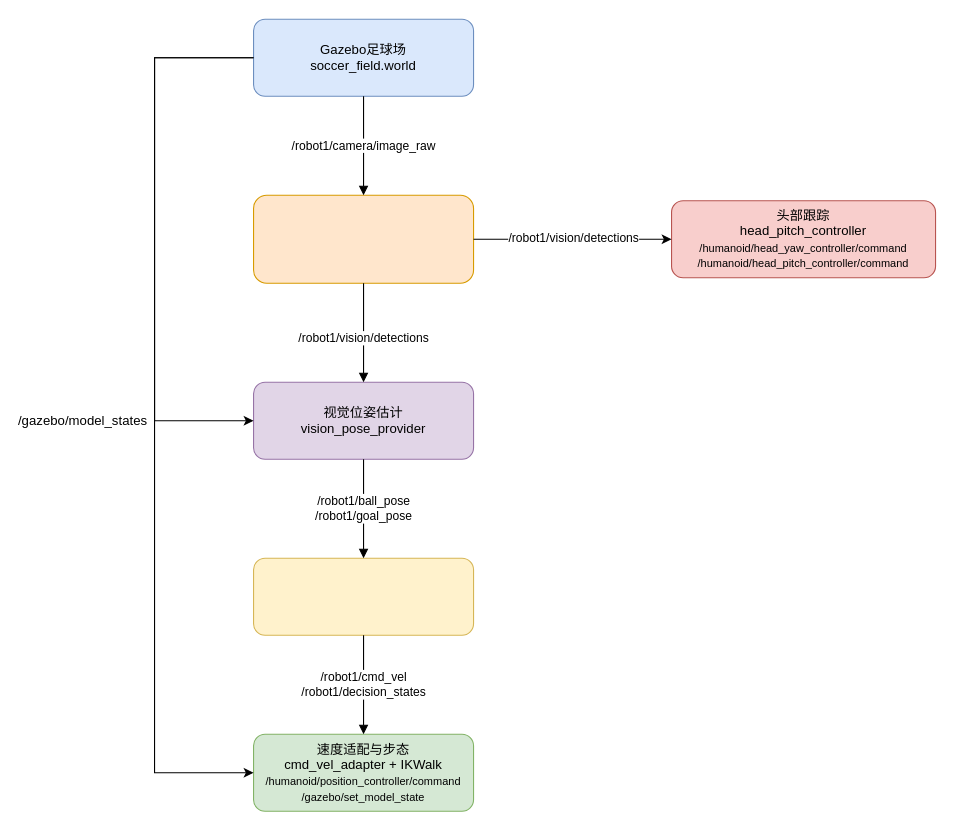
Image size: 955x831. Some labels were removed from this diagram. The centre of each missing label's shape, as x and y in pixels:
"FSM决策 soccer_demo_node" belongs at point (363, 596).
"视觉检测节点 Hough或YOLO" belongs at point (363, 238).
